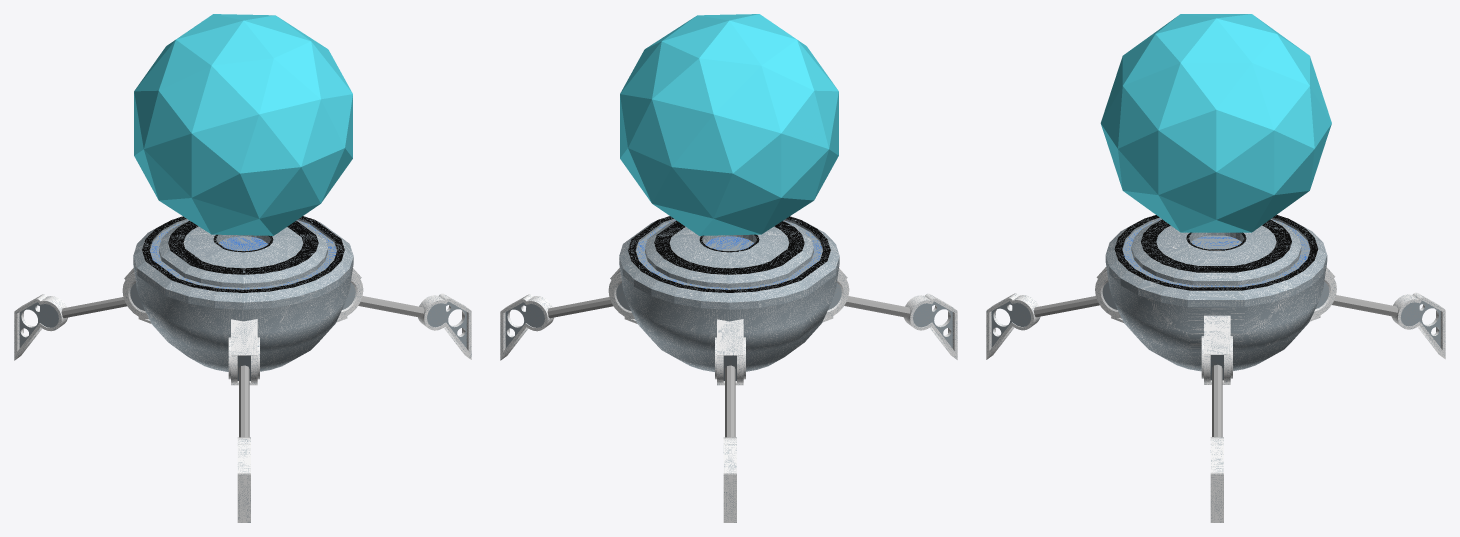
The model's file is Crawler.fbx.
3 views of the same model, side by side, from view 1: azimuth 30°, elevation 25°; view 2: azimuth 150°, elevation 25°; view 3: azimuth 270°, elevation 25° (orthographic).
Parts seen in each view (by area): view 1: Group_1_1, Base1, Claw1, WheelHub2, Claw3, Claw2, piston2, piston1, WheelHub3, piston3, WheelHub1; view 2: Group_1_1, Base1, Claw2, Claw1, WheelHub3, Claw3, piston3, piston2, WheelHub1, piston1, WheelHub2; view 3: Group_1_1, Base1, WheelHub1, Claw3, Claw2, Claw1, piston1, piston3, WheelHub2, piston2, WheelHub3.
Part boxes in pixels (x1,y1,x2,y2): Group_1_1: (134, 14, 352, 235); Base1: (133, 216, 353, 371); Claw1: (418, 293, 471, 359); WheelHub2: (228, 319, 259, 385); Claw3: (14, 294, 67, 360); Claw2: (237, 437, 250, 522); piston2: (239, 365, 249, 437); piston1: (358, 296, 424, 317); WheelHub3: (122, 268, 150, 323); piston3: (61, 297, 127, 318); WheelHub1: (336, 268, 363, 322); Group_1_1: (620, 14, 838, 235); Base1: (619, 216, 839, 371); Claw2: (904, 293, 957, 359); Claw1: (500, 294, 553, 360); WheelHub3: (715, 319, 745, 385); Claw3: (723, 437, 736, 522); piston3: (725, 365, 735, 437); piston2: (844, 296, 910, 317); WheelHub1: (608, 268, 636, 323); piston1: (547, 297, 613, 318); WheelHub2: (822, 268, 849, 322); Group_1_1: (1100, 14, 1331, 232); Base1: (1105, 215, 1327, 371); WheelHub1: (1201, 315, 1232, 384); Claw3: (1391, 292, 1445, 359); Claw2: (986, 293, 1040, 359); Claw1: (1210, 437, 1223, 522); piston1: (1212, 364, 1222, 436); piston3: (1332, 295, 1397, 316); WheelHub2: (1095, 267, 1123, 322); piston2: (1033, 296, 1099, 317); WheelHub3: (1309, 267, 1336, 321).
Bounding box in the file's own units: 180 × 196 × 207.
